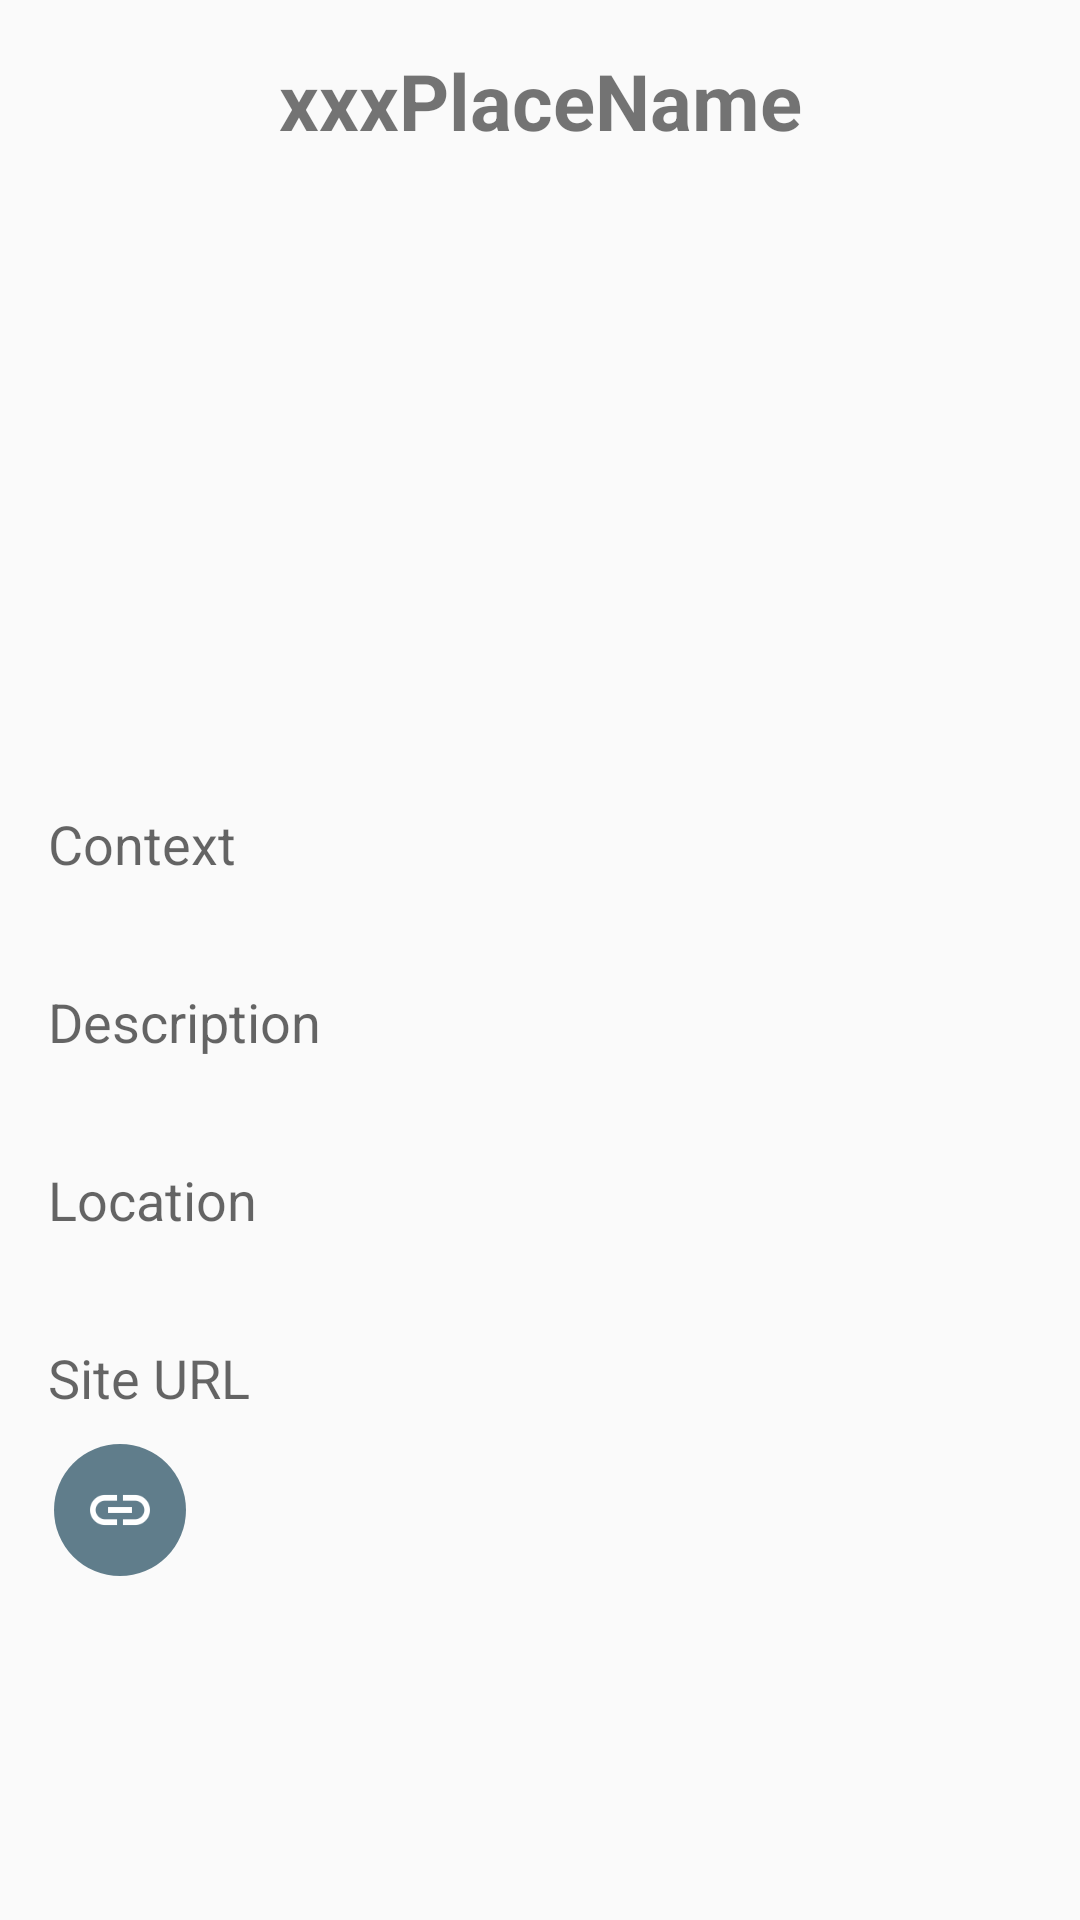

Named icons in this screenshot (1080px x 1920px) and their bounding boxes, (x1,y1,x2,y2):
shortcut link: (54,1444,186,1576)
